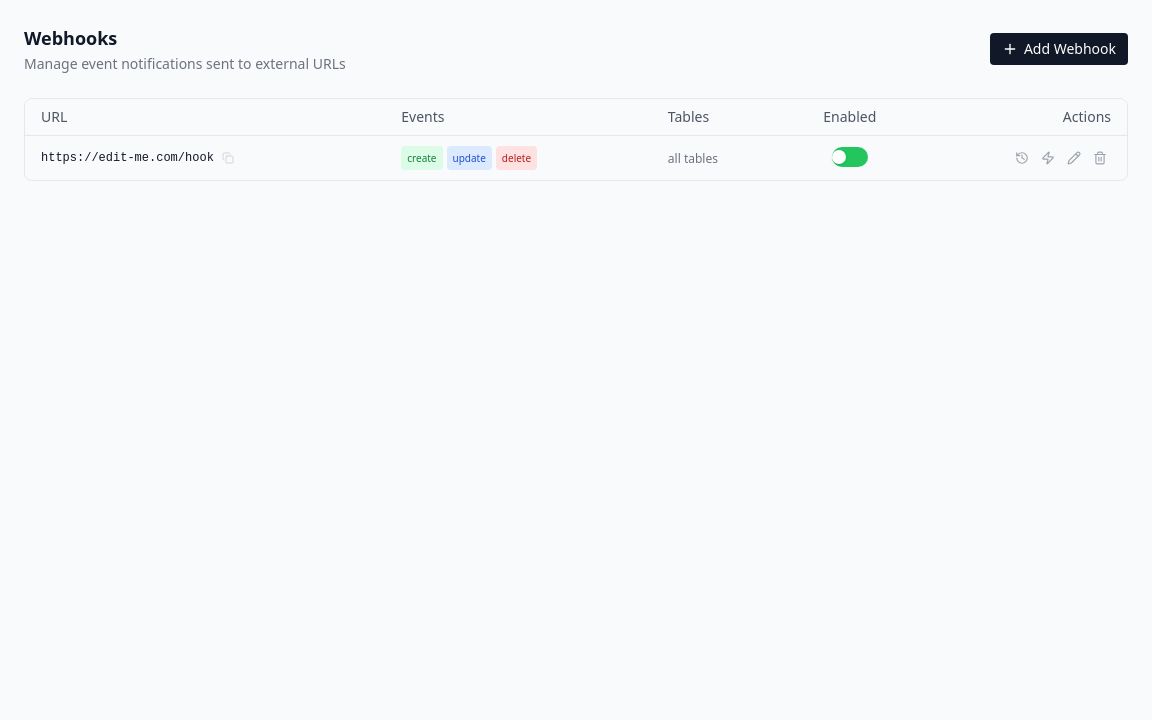
Webhooks › opens edit modal
Expected: the text "https://edit-me.com/hook" is shown, [41, 150, 214, 166]
Click the button titled "Edit".
click(1074, 158)  # box [1063, 147, 1085, 169]
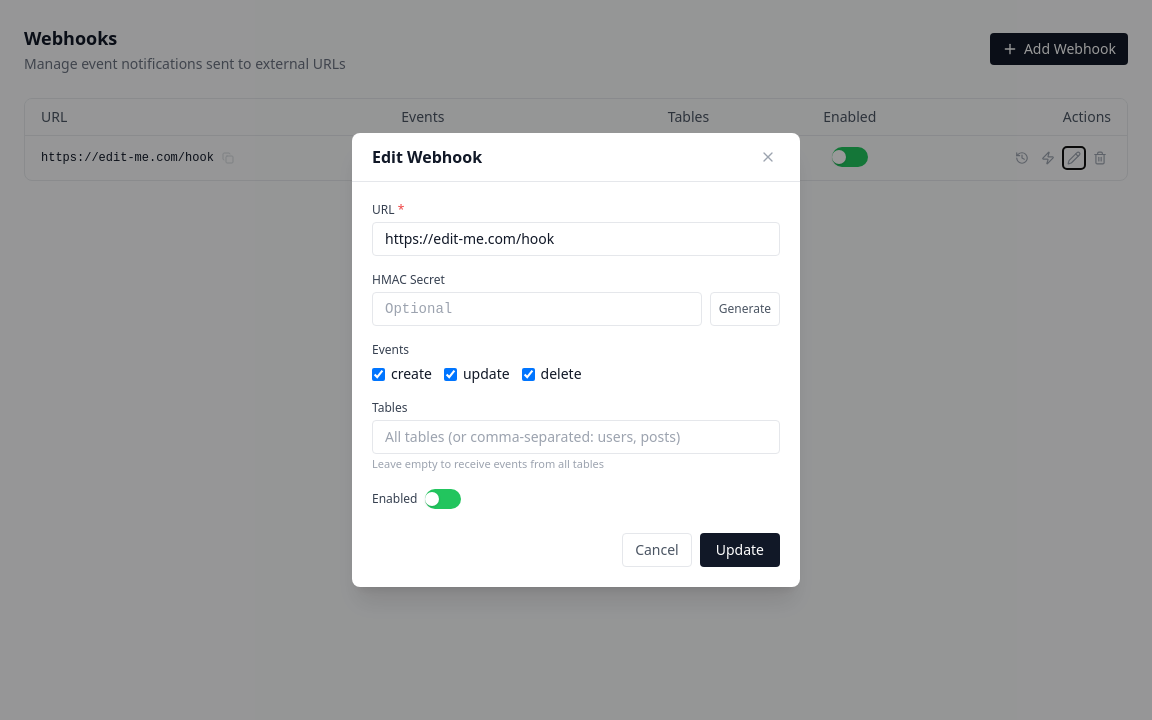
Result: the heading "Edit Webhook" is shown at [372, 145, 482, 169]
Result: the field showing "https://edit-me.com/hook" is shown at [372, 222, 780, 256]
